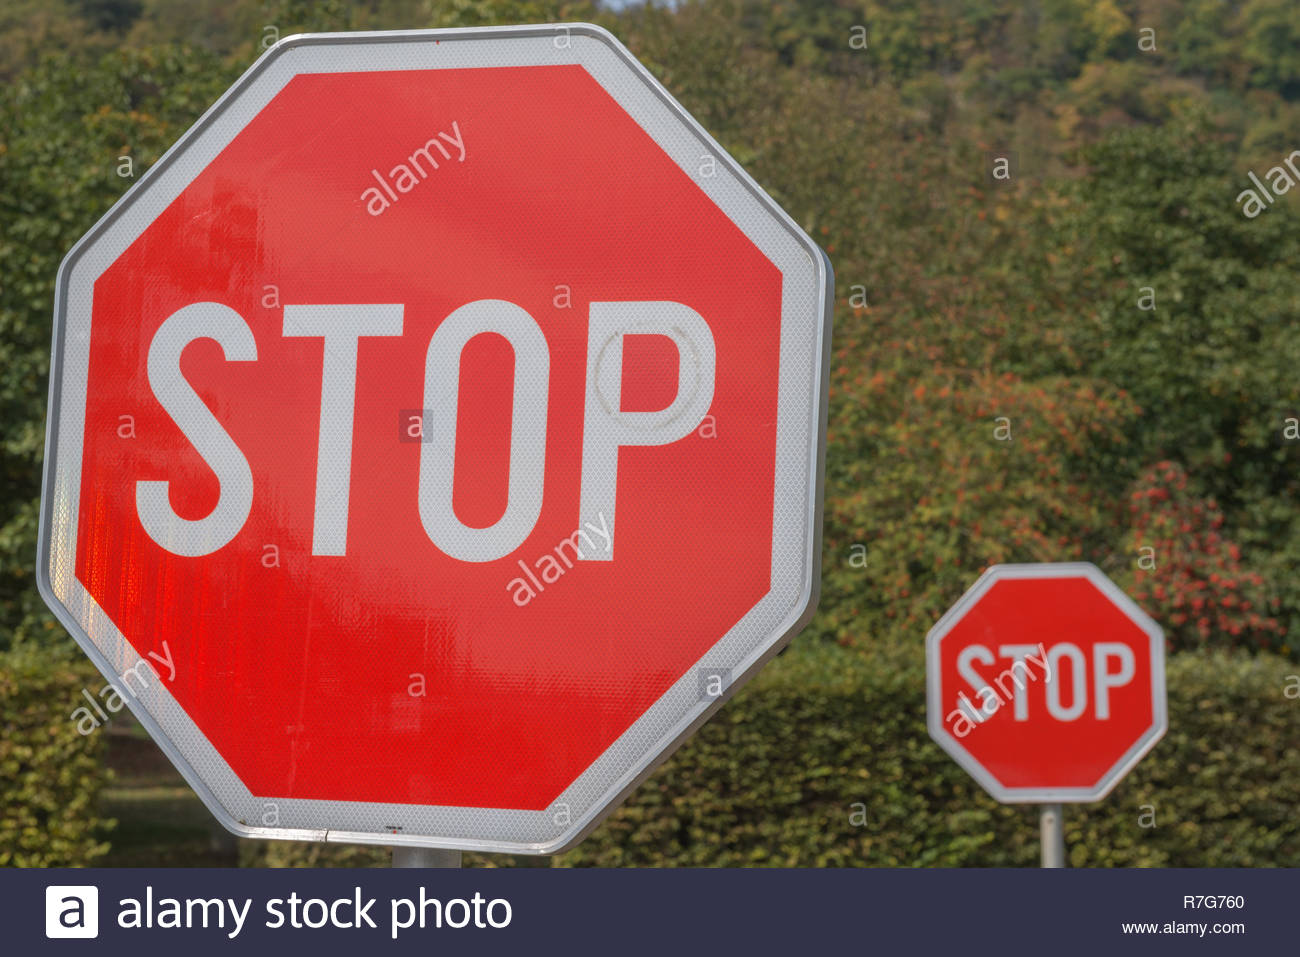stop: (34, 24, 867, 843), (273, 17, 873, 845), (39, 22, 858, 595), (42, 251, 663, 839), (37, 338, 636, 843), (923, 563, 1172, 805)
